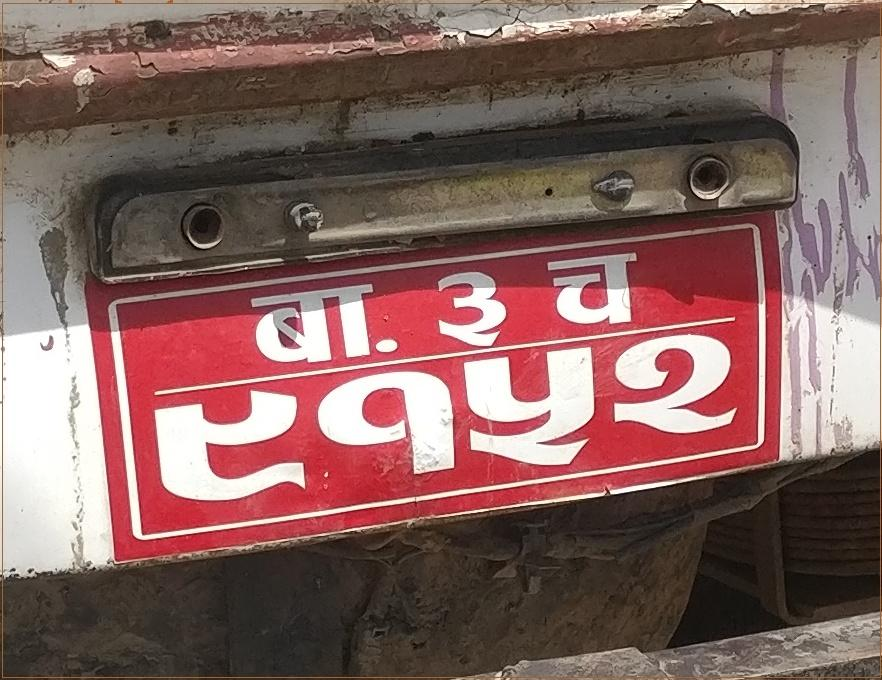1: (314, 364, 461, 498)
2: (607, 329, 746, 442)
3: (426, 268, 514, 347)
5: (456, 343, 607, 476)
9: (152, 384, 312, 508)
ba: (245, 276, 401, 369)
cha: (540, 247, 641, 332)
